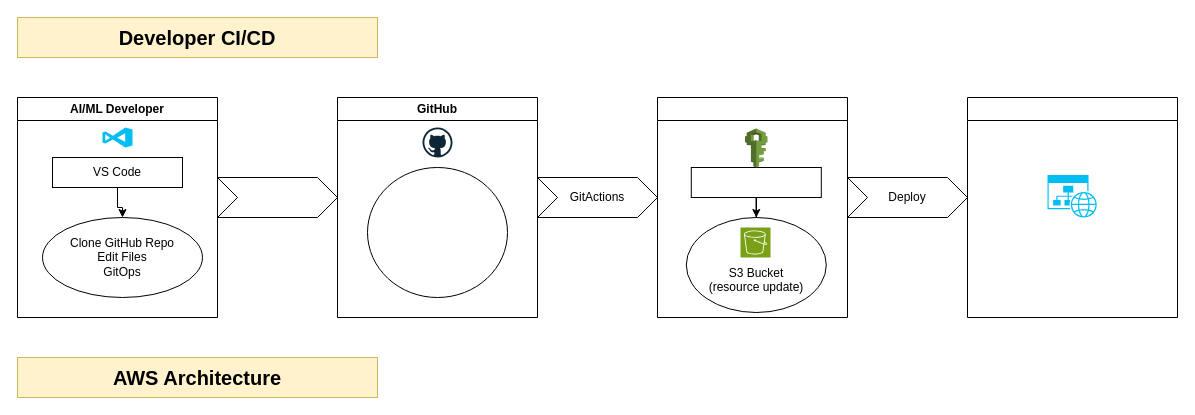
Image size: 1195x415. Some labels were removed from this diagram. The box of each missing label's shape, as (x1, y1, x2, y2) in pixels:
AWS Services: (656, 96, 848, 318)
Branch update Main update GitHub Actions Trigger: (366, 166, 508, 298)
GitOps: (216, 176, 338, 218)
IAM service role (GitHub user): (690, 166, 821, 198)
Website: (966, 96, 1178, 318)
